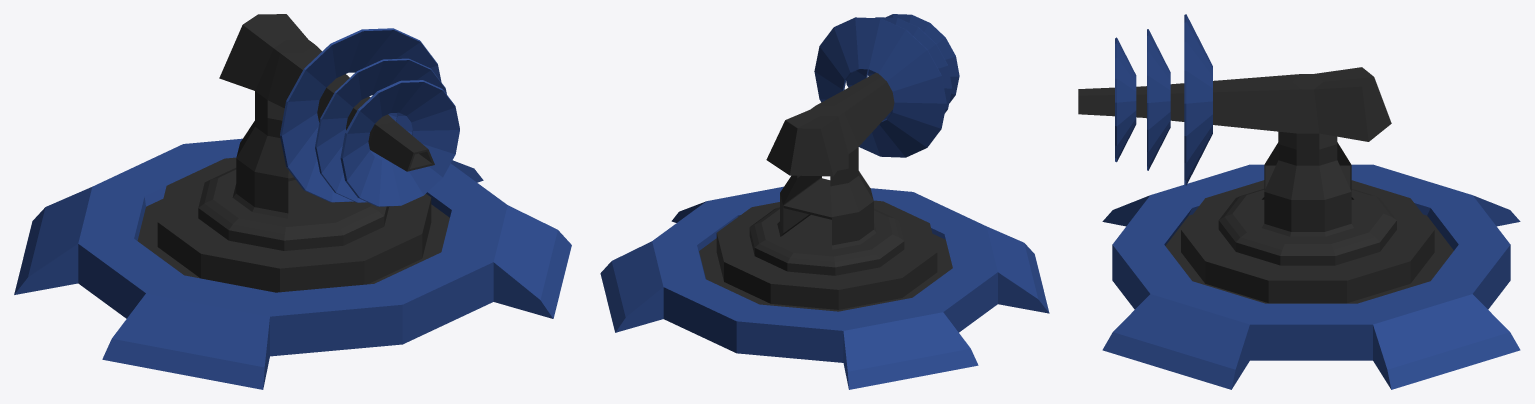
File: EnergyTurret.fbx
3 views of the same model, side by side, from view 1: azimuth 30°, elevation 25°; view 2: azimuth 150°, elevation 25°; view 3: azimuth 270°, elevation 25° (orthographic). The views are drawn at different scales.
Parts seen in each view (by area): view 1: spiningBase; view 2: spiningBase; view 3: spiningBase.
Boxes of the visible parts, left/top/right/bottom form: spiningBase: left=14, top=14, right=571, bottom=389; spiningBase: left=600, top=14, right=1049, bottom=389; spiningBase: left=1078, top=14, right=1520, bottom=389.
Bounding box in the file's own units: 61.77 × 36.59 × 55.56.
